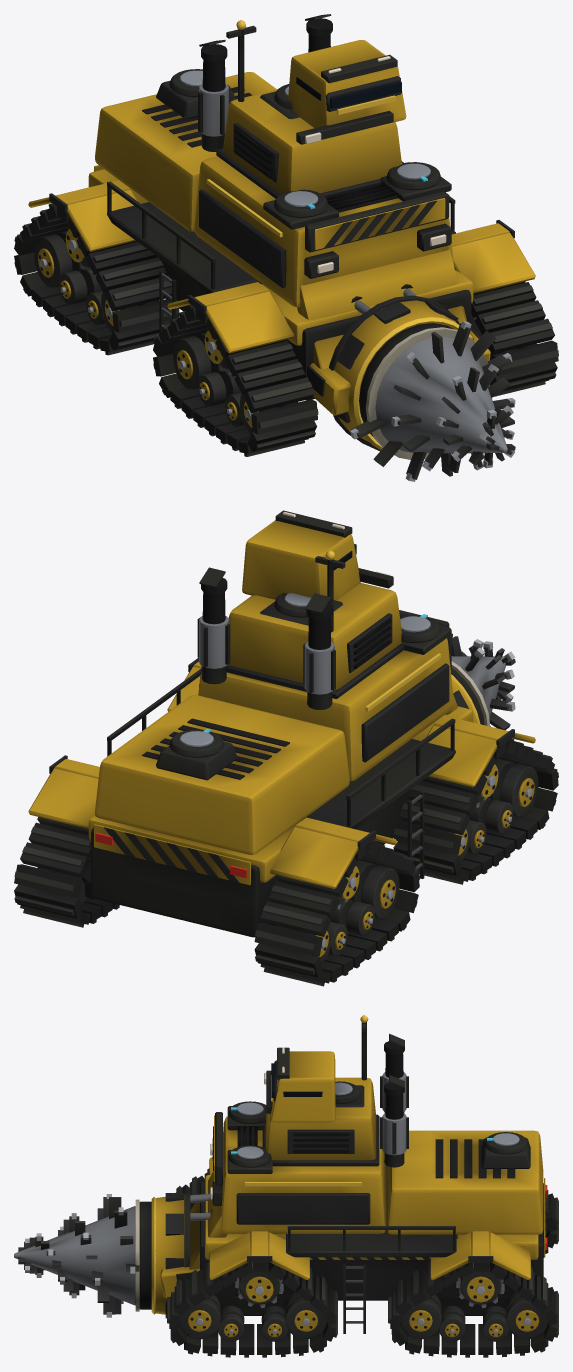
File: ex_crawler_8.glb
The picture shows the model from 3 angles, top to bottom: view 1: azimuth 30°, elevation 25°; view 2: azimuth 150°, elevation 25°; view 3: azimuth 270°, elevation 25°; orthographic projection. The views are drawn at different scales.
Visible parts, largest first — view 1: body, drill, wheel_17, wheel_7, wheel_18, wheel_8; view 2: body, drill, wheel_6, wheel_16, wheel_9, wheel_19; view 3: body, drill, wheel_12, wheel_2, wheel_1, wheel_11, wheel_0, wheel_10, wheel_3, wheel_14, wheel_4, wheel_13.
Part boxes in pixels (<box>): body: <box>14,14,558,456</box>; drill: <box>350,321,515,481</box>; wheel_17: <box>34,231,81,288</box>; wheel_7: <box>173,332,220,390</box>; wheel_18: <box>58,268,101,305</box>; wheel_8: <box>197,370,240,406</box>; body: <box>14,510,558,986</box>; drill: <box>448,633,515,730</box>; wheel_6: <box>488,759,538,817</box>; wheel_16: <box>349,860,399,919</box>; wheel_9: <box>467,797,513,834</box>; wheel_19: <box>328,899,374,936</box>; body: <box>151,1015,558,1357</box>; drill: <box>14,1194,151,1317</box>; wheel_12: <box>506,1291,547,1339</box>; wheel_2: <box>285,1292,326,1339</box>; wheel_1: <box>179,1294,220,1339</box>; wheel_11: <box>400,1294,441,1339</box>; wheel_0: <box>235,1262,283,1307</box>; wheel_10: <box>456,1262,504,1308</box>; wheel_3: <box>261,1306,287,1341</box>; wheel_14: <box>439,1306,465,1341</box>; wheel_4: <box>218,1306,244,1341</box>; wheel_13: <box>483,1306,508,1341</box>.
Bounding box in the file's own units: 8.68 × 9.41 × 16.54.
